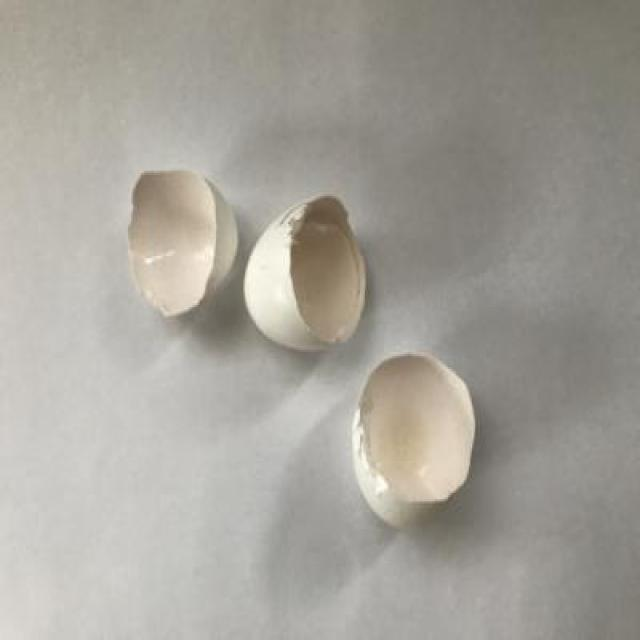compost: (124, 166, 498, 516)
